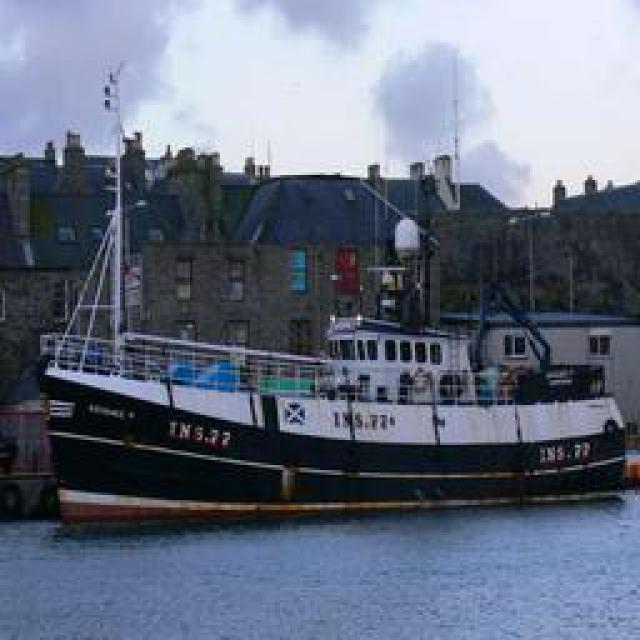Ship: (34, 141, 629, 511)
